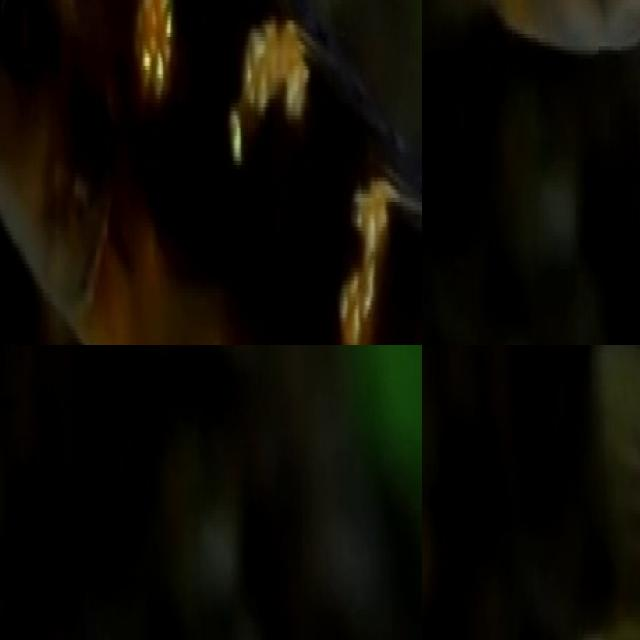fish: (0, 0, 422, 345), (422, 0, 640, 104)
